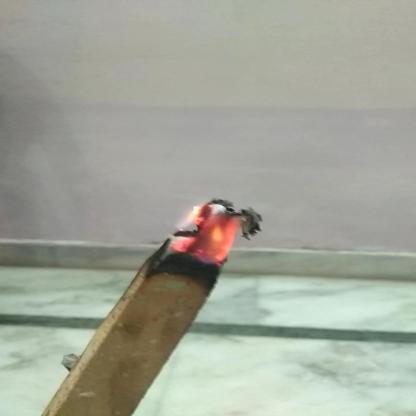fire: (172, 196, 244, 262)
